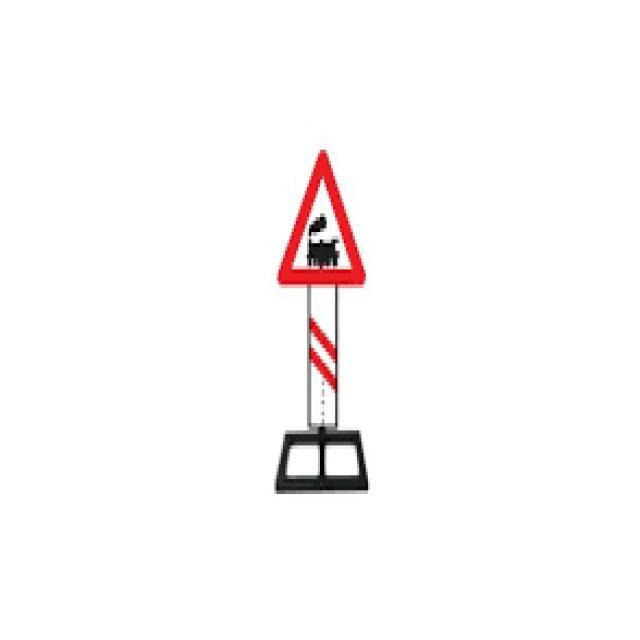unguarded level crossing: (276, 149, 368, 291)
